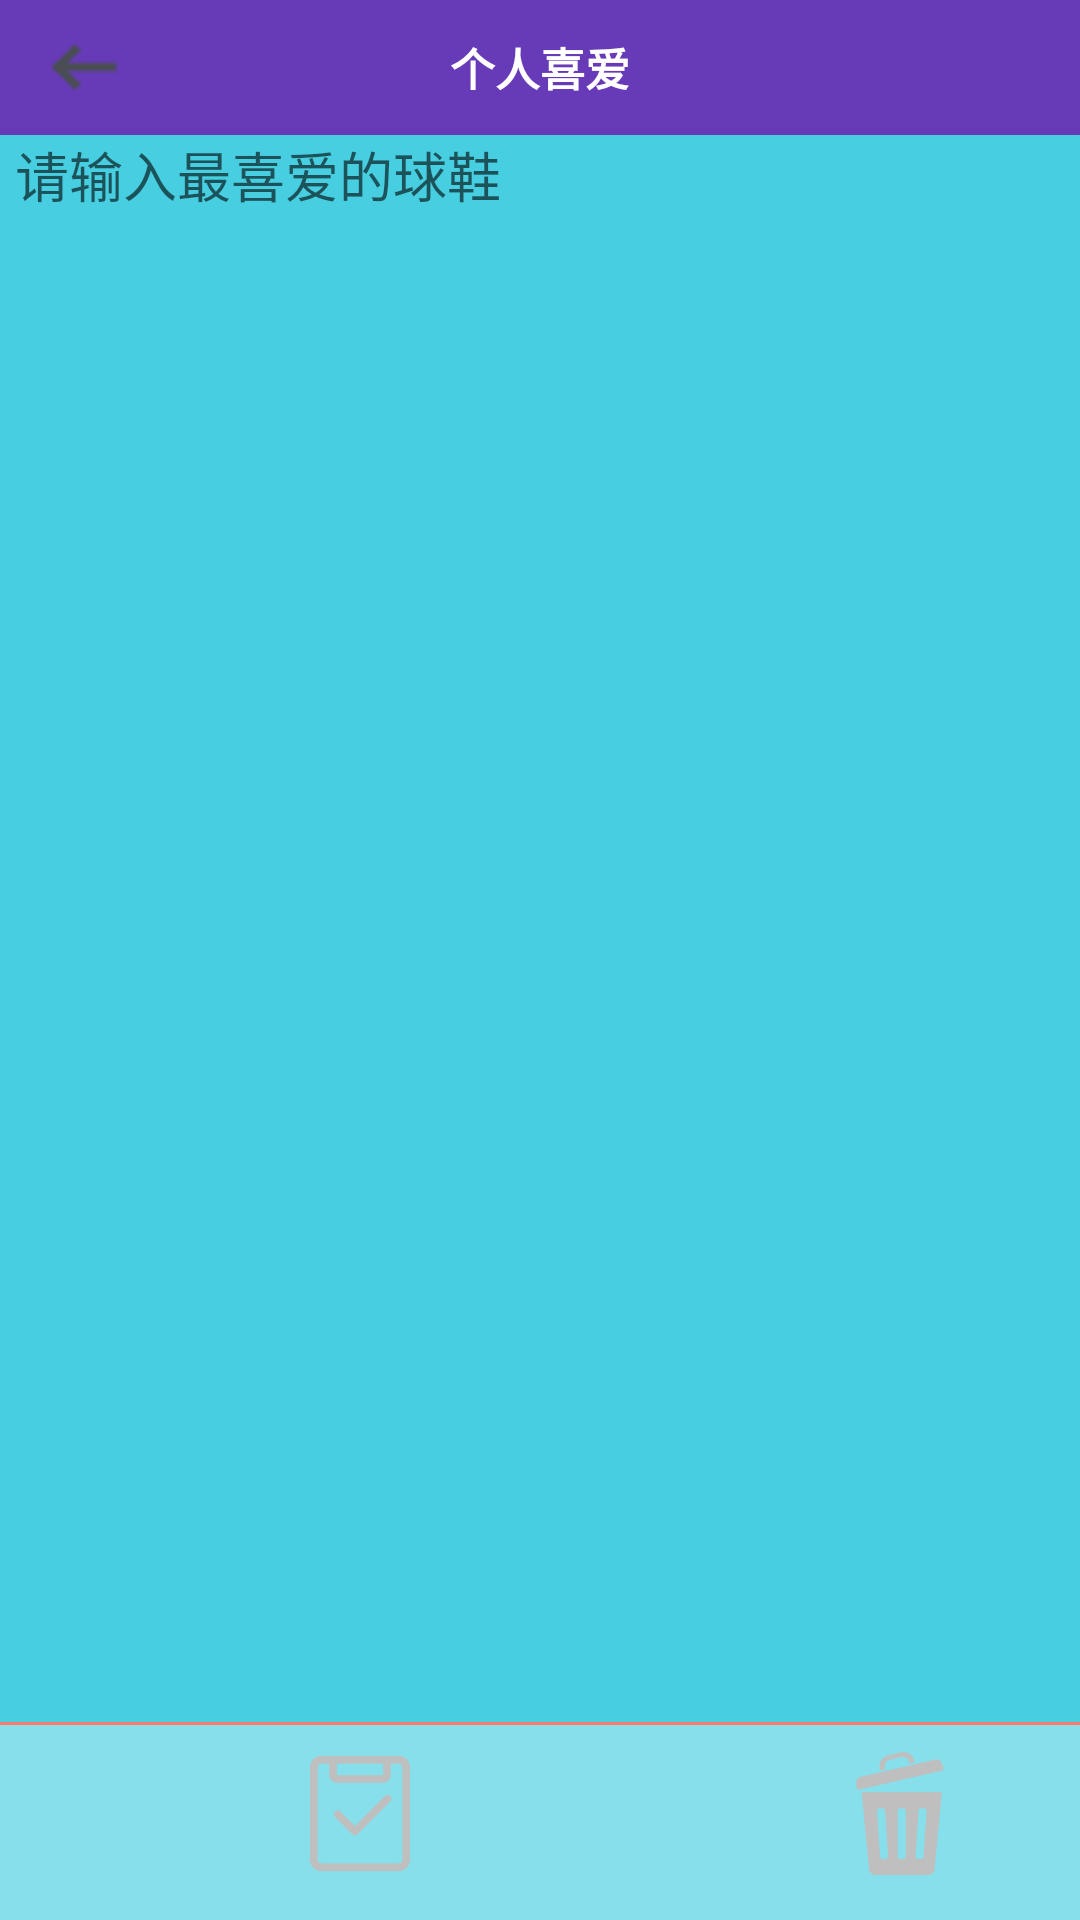

Icon click points for this 1080×1920 phone screenshot, format (x=x, y=y):
arrow left: (x=84, y=67)
shanchu: (x=900, y=1813)
